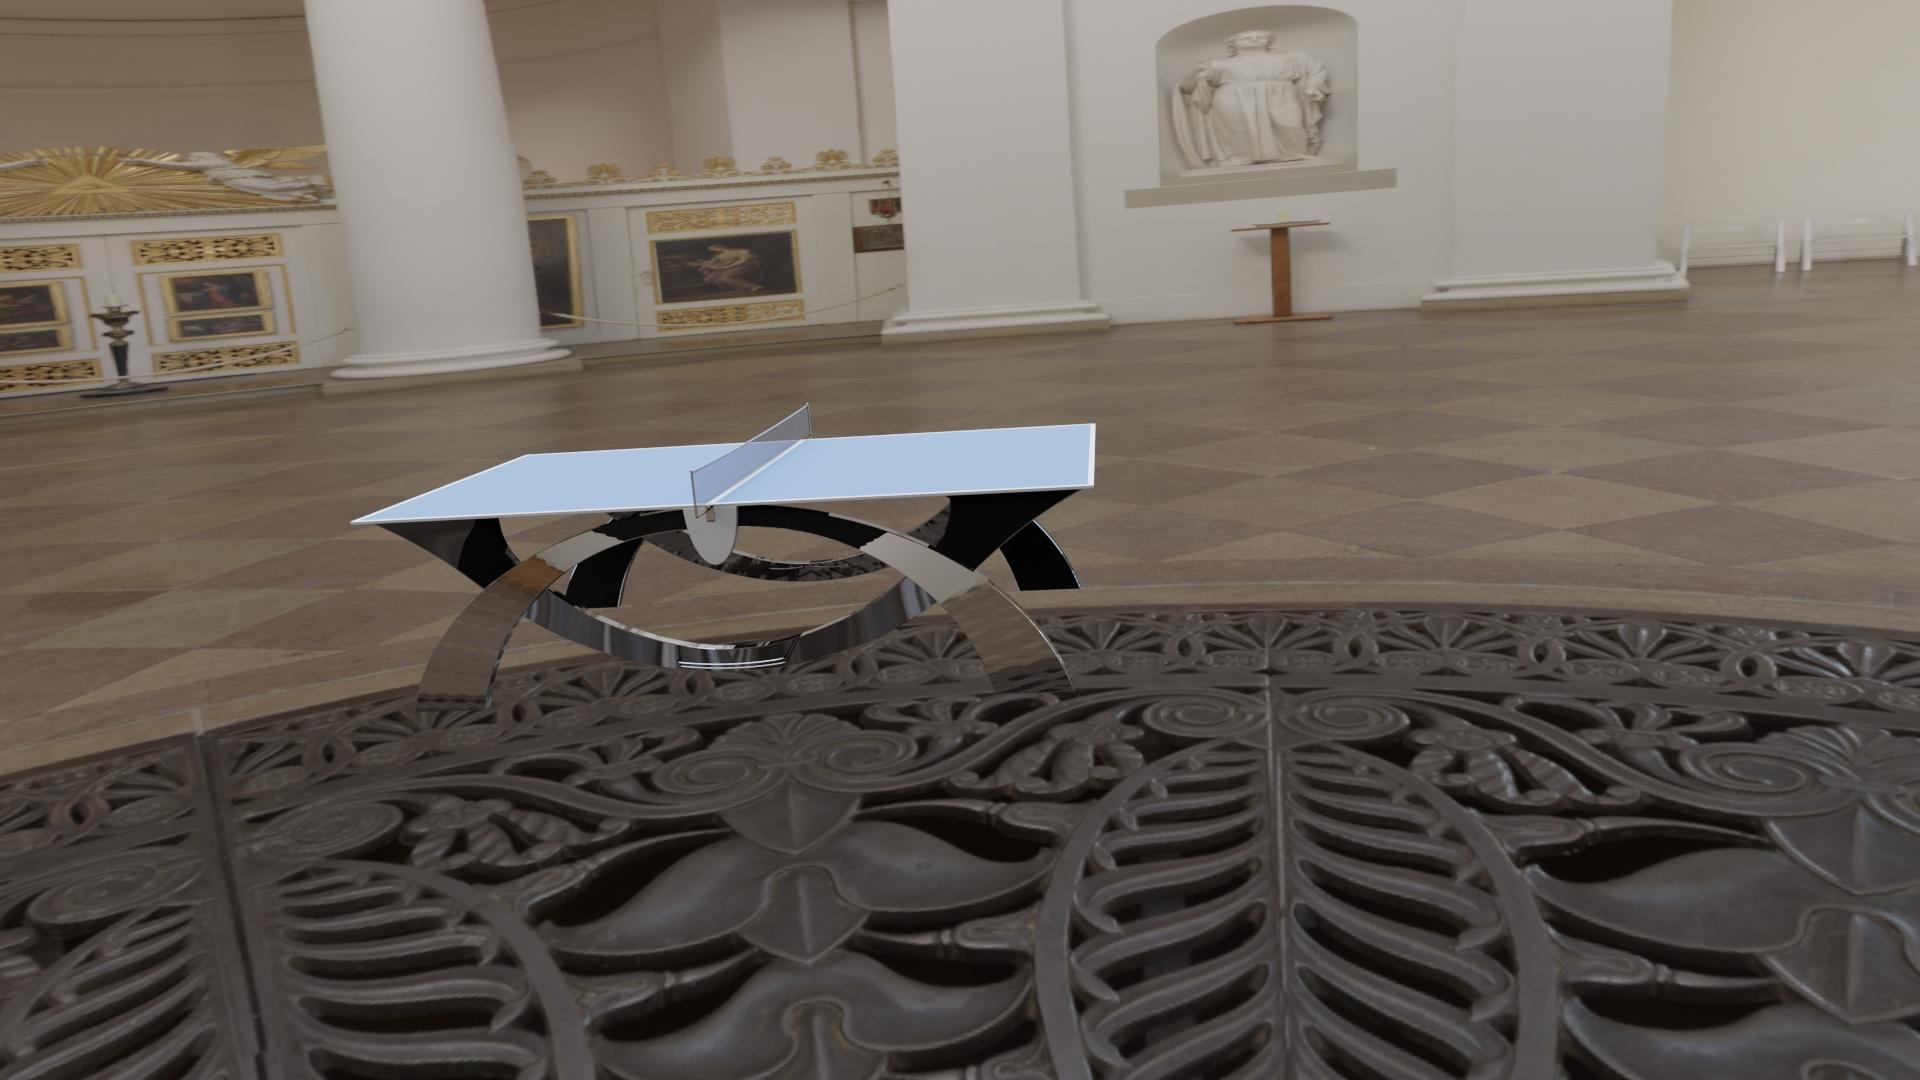table: (359, 425, 1091, 521)
